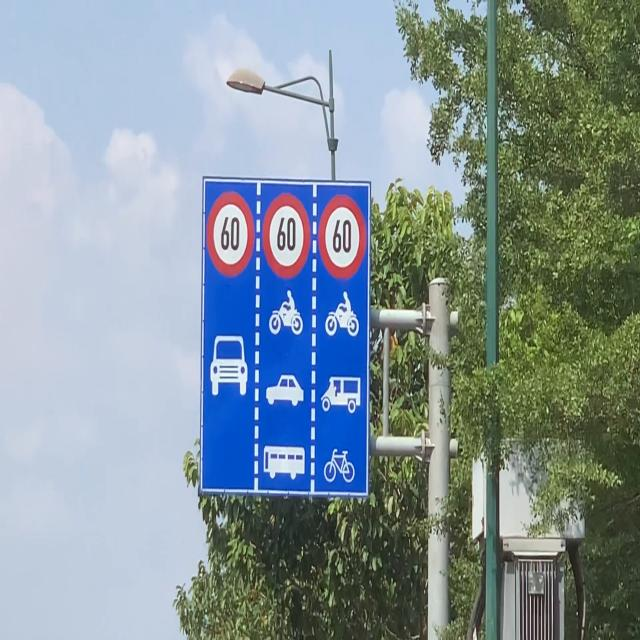Toc do toi da: (262, 192, 311, 278), (318, 194, 367, 279), (207, 191, 254, 277)
